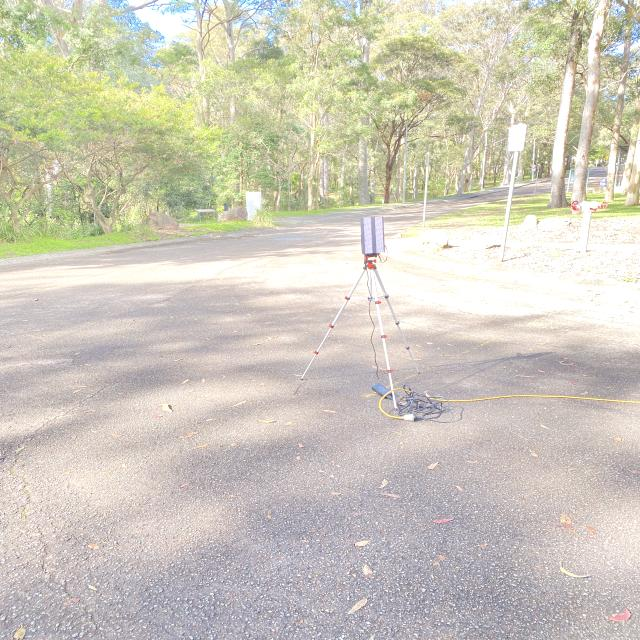matrix: (359, 217, 387, 254)
